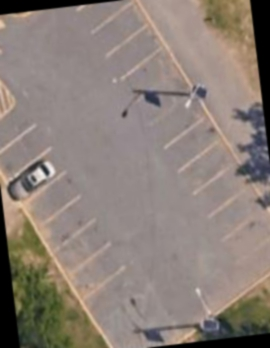parkingspot: (65, 0, 270, 294), (0, 94, 131, 307)
